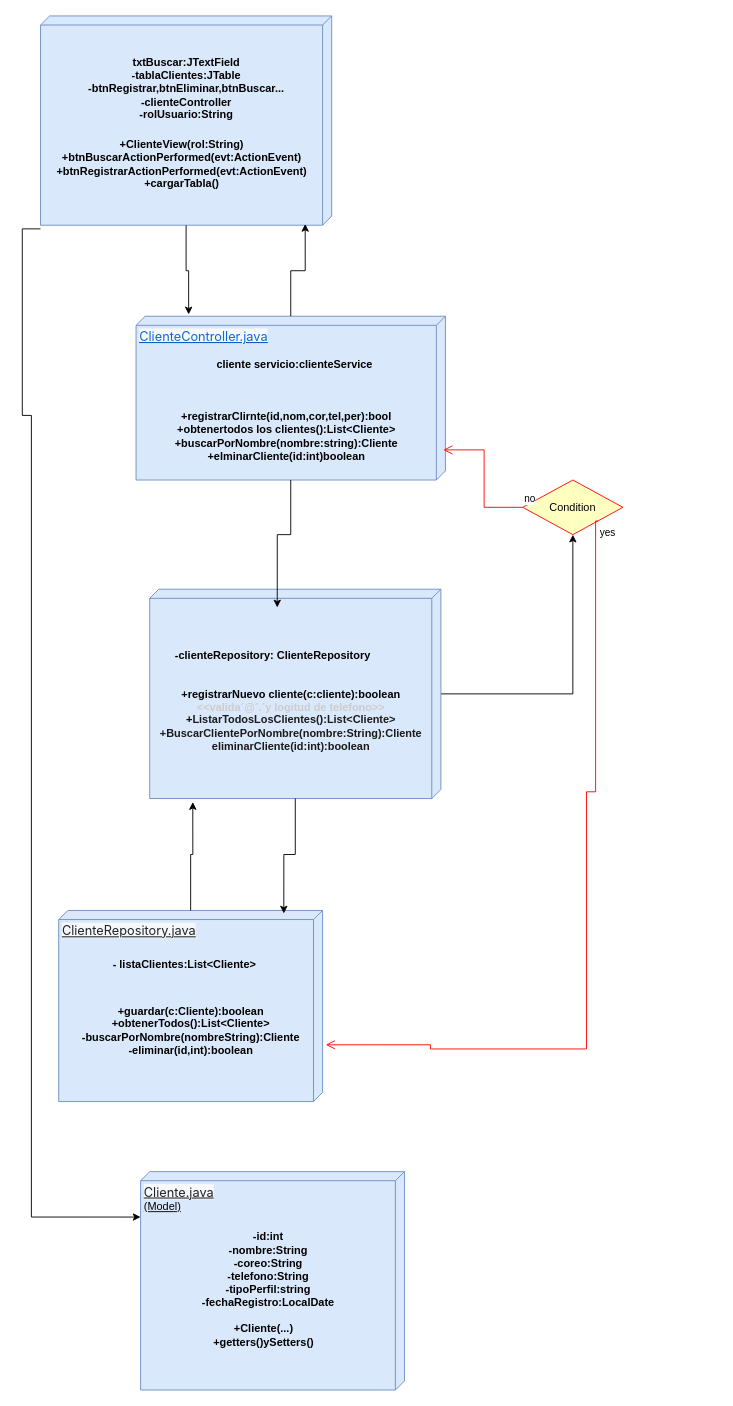
Image size: 733x1406. Some labels were removed from this diagram. The box of each missing label's shape, as (x1, y1, x2, y2) in pixels:
ClienteService.java: (149, 588, 441, 799)
ClienteView (JFrame): (40, 15, 332, 225)
